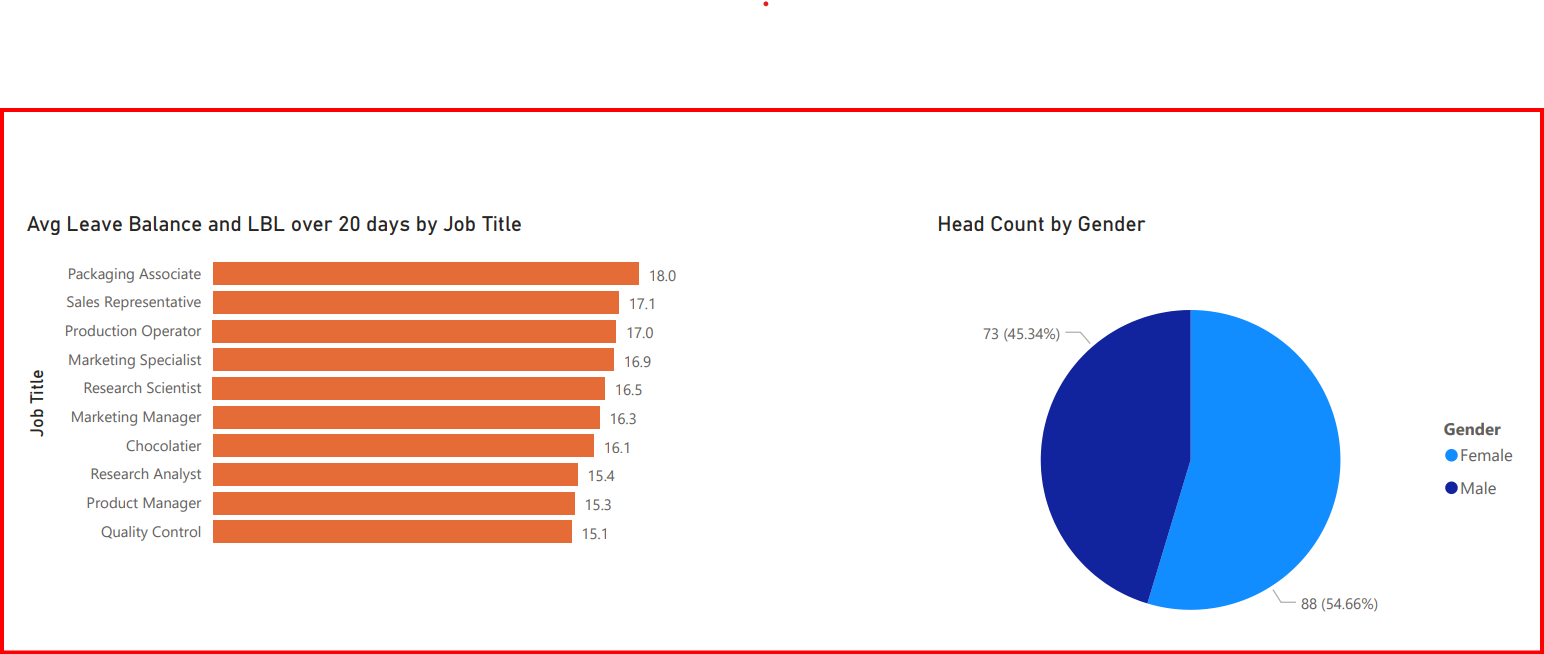

This screenshot's page, from the dashboard's own definition file:
{"tool":"powerbi","page":{"name":"Page 9","canvas":[1280,720],"ordinal":8},"visuals":[{"type":"barChart","fields":{"Category":["staff.Job Title"],"Y":["staff.Avg Leave Balance"]},"box":[17.8,194.9,537.9,279.9],"z":0},{"type":"textbox","box":[211.3,0,857.6,79.6],"z":1000},{"type":"pieChart","fields":{"Category":["staff.Gender"],"Y":["staff.Head Count"]},"box":[746.5,194.9,480.3,378.7],"z":2000}]}

Visuals, with their boxes on the page's 1280x720 design canvas (x1, y1, x2, y2). These are canvas units, not pixel positions in the 1544x654 screenshot, which may show the page scaled, cropped or inside an application window:
barChart - staff.Job Title x staff.Avg Leave Balance: x1=18, y1=195, x2=556, y2=475
textbox: x1=211, y1=0, x2=1069, y2=80
pieChart - staff.Gender x staff.Head Count: x1=746, y1=195, x2=1227, y2=574
